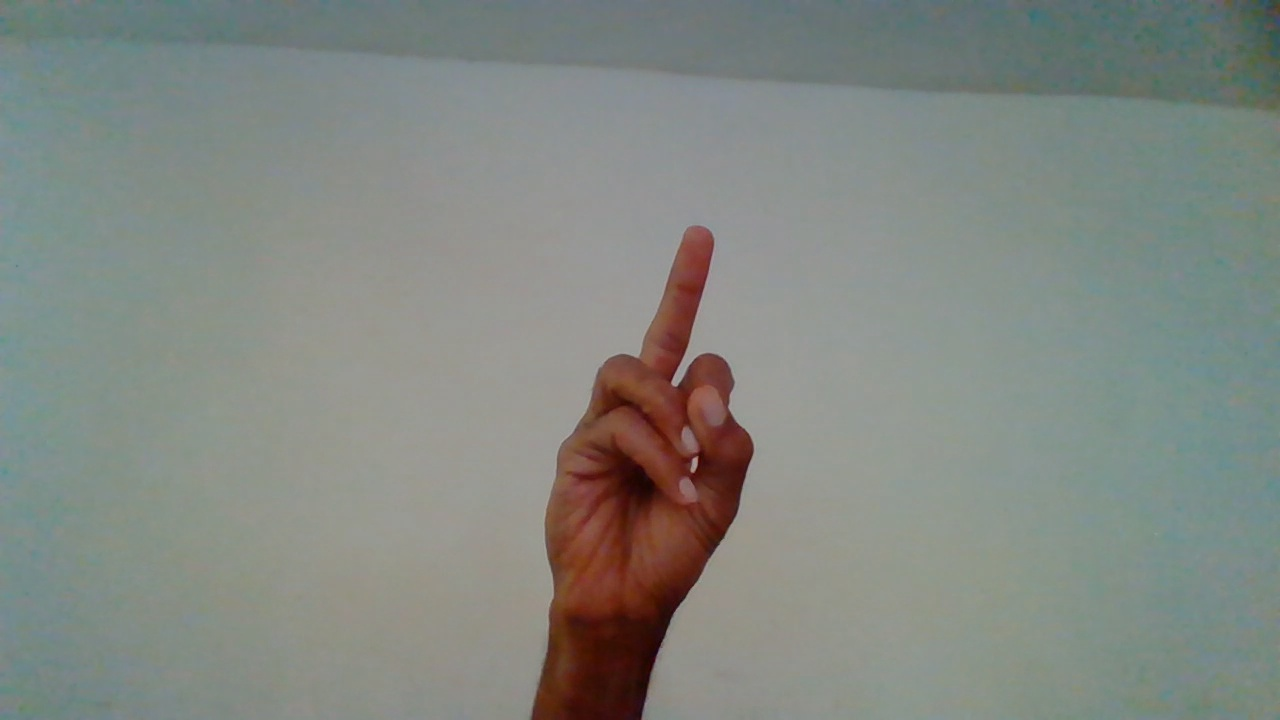he: (537, 222, 767, 712)
